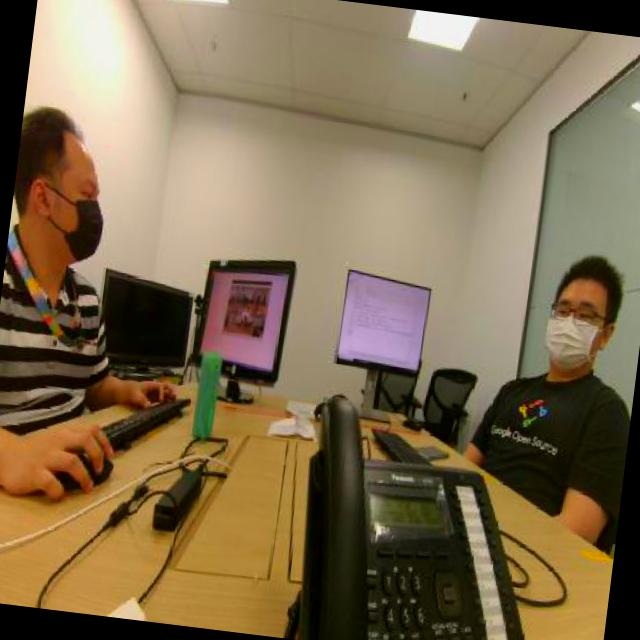Person: (484, 196, 640, 503), (0, 80, 135, 423)
